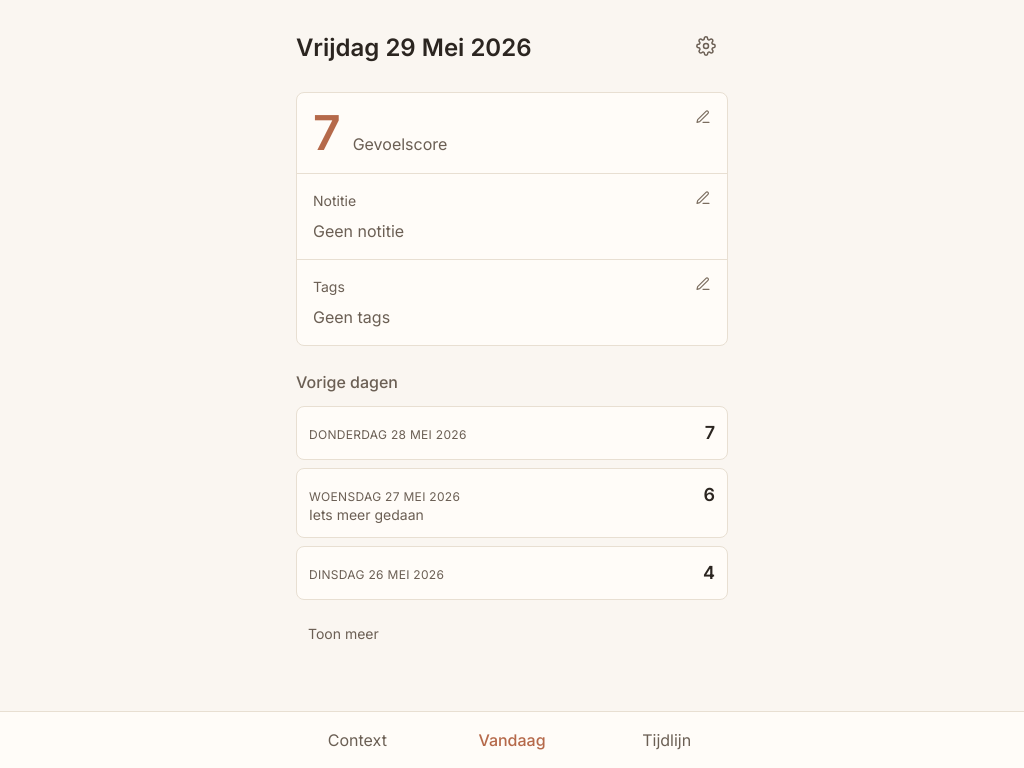
it: <TodayShell /> › Context tab › tapping Vandaag after Context restores the today-card (no regression)
This screenshot has width=1024, height=768.
Click the tab "Context". click: (357, 740)
box: [280,712,435,767]
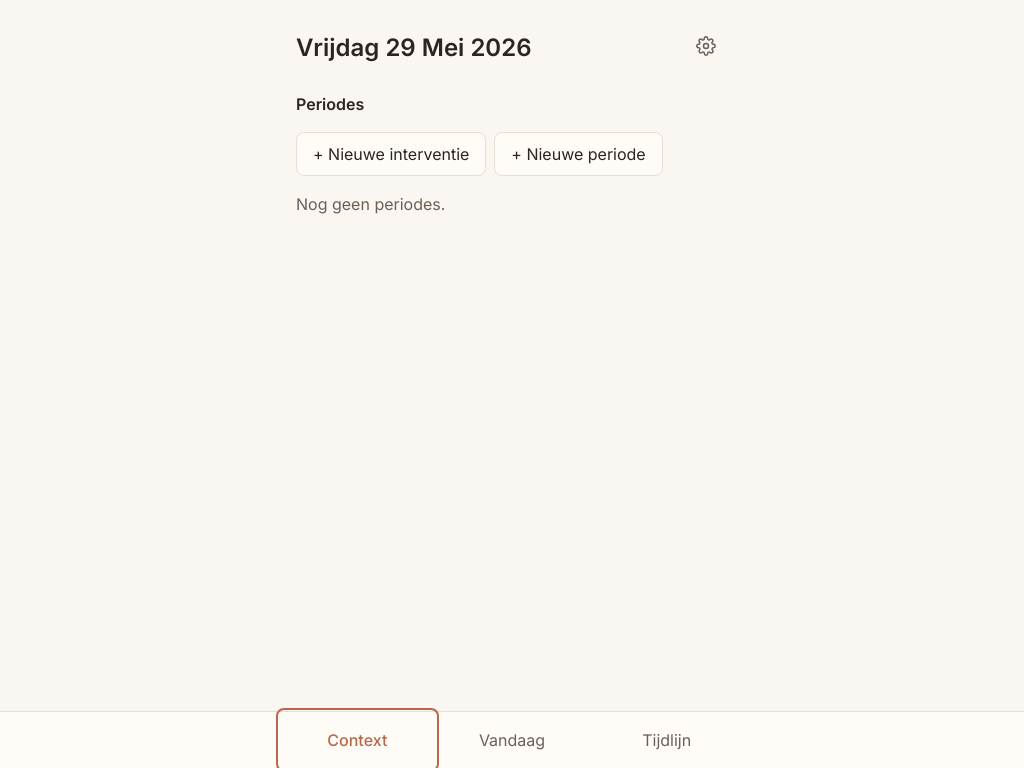
Now the element with test id "today-card" is gone
Click the tab "Vandaag". click: (512, 740)
box: [435,712,589,767]
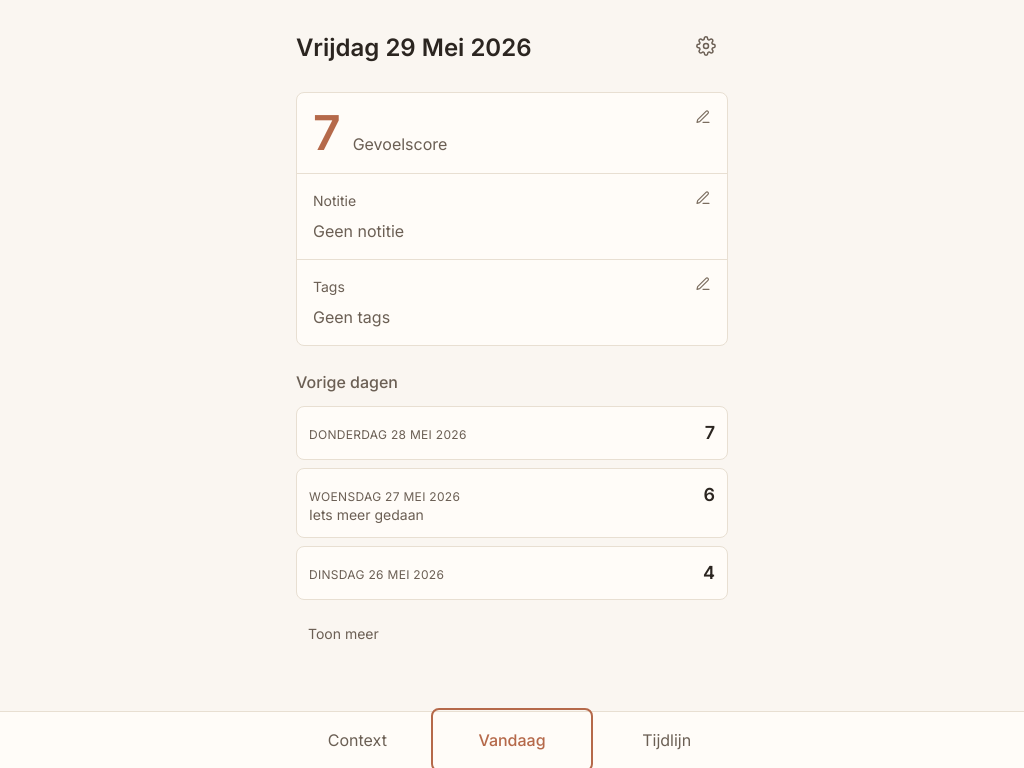
Now the element with test id "today-card" is shown, box [296,92,728,346]
